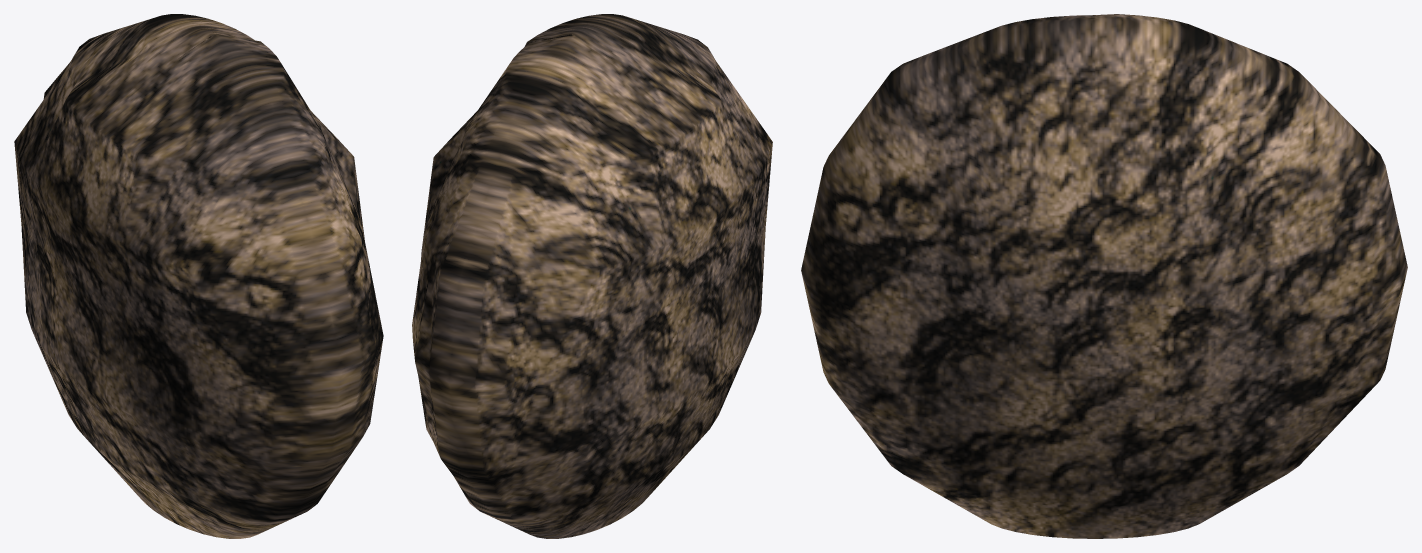
The model's file is aster1.fbx.
3 views of the same model, side by side, from view 1: azimuth 30°, elevation 25°; view 2: azimuth 150°, elevation 25°; view 3: azimuth 270°, elevation 25° (orthographic). The views are drawn at different scales.
Parts seen in each view (by area): view 1: testAsteroid; view 2: testAsteroid; view 3: testAsteroid.
Boxes of the visible parts, left/top/right/bottom form: testAsteroid: left=14, top=14, right=383, bottom=538; testAsteroid: left=412, top=14, right=772, bottom=538; testAsteroid: left=801, top=14, right=1407, bottom=538.
Bounding box in the file's own units: 2.15 × 3.9 × 4.08.
